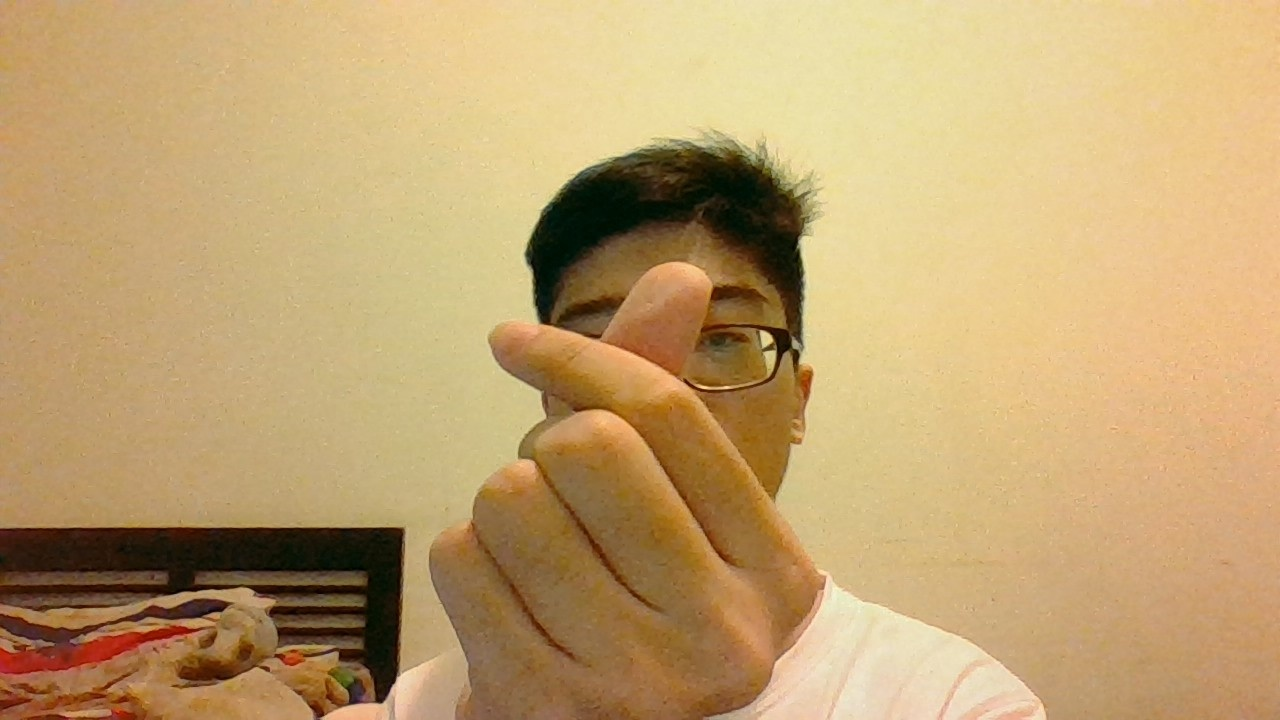I Love You: (411, 257, 816, 703)
